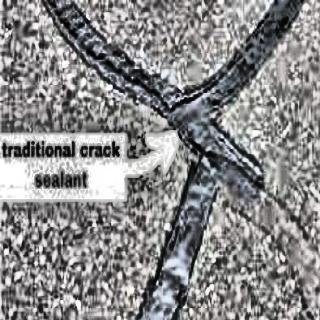crack: (42, 0, 254, 112)
